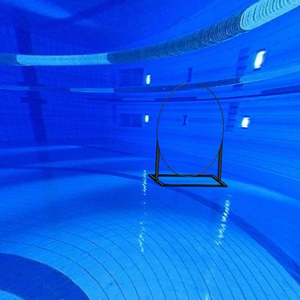circle: (147, 82, 231, 190)
